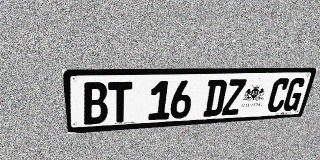1: (148, 81, 173, 120)
6: (169, 80, 194, 119)
B: (82, 82, 108, 125)
C: (265, 78, 291, 113)
D: (203, 79, 228, 117)
G: (281, 78, 307, 112)
T: (108, 81, 132, 123)
Z: (221, 79, 247, 116)
